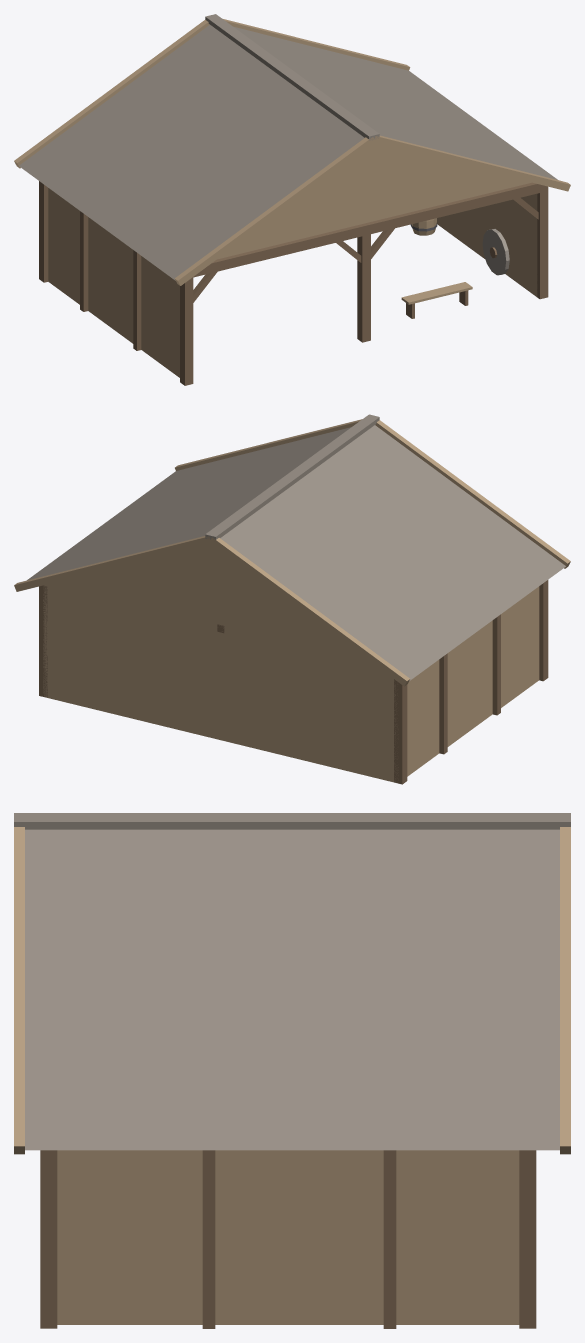
Rendered from carriage_house.glb.
3 views of the same model, one above another, from view 1: azimuth 30°, elevation 25°; view 2: azimuth 150°, elevation 25°; view 3: azimuth 270°, elevation 25° (orthographic). The views are drawn at different scales.
Visible parts, largest first — view 1: CarriageHouse; view 2: CarriageHouse; view 3: CarriageHouse.
Boxes of the visible parts, x1,y1,x2,y2 form: CarriageHouse: [14, 14, 570, 385]; CarriageHouse: [14, 414, 570, 784]; CarriageHouse: [14, 813, 570, 1328].
Size of the model in its own units: 11.08 by 5.71 by 8.
